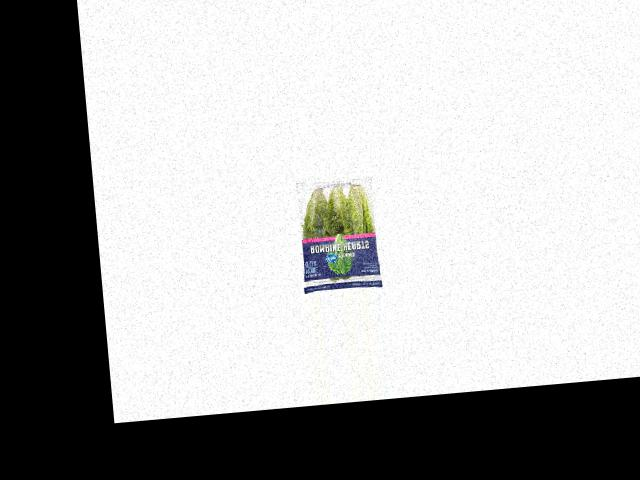lettuce: (292, 179, 385, 292)
